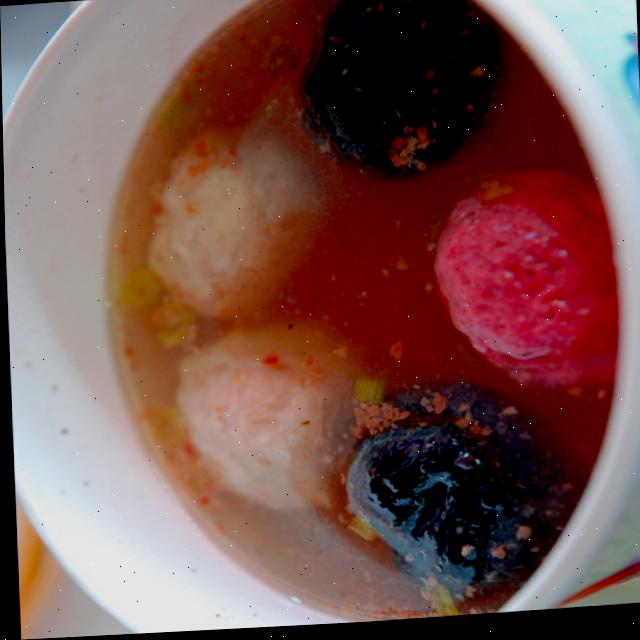熟制海鲜: (19, 0, 630, 639)
